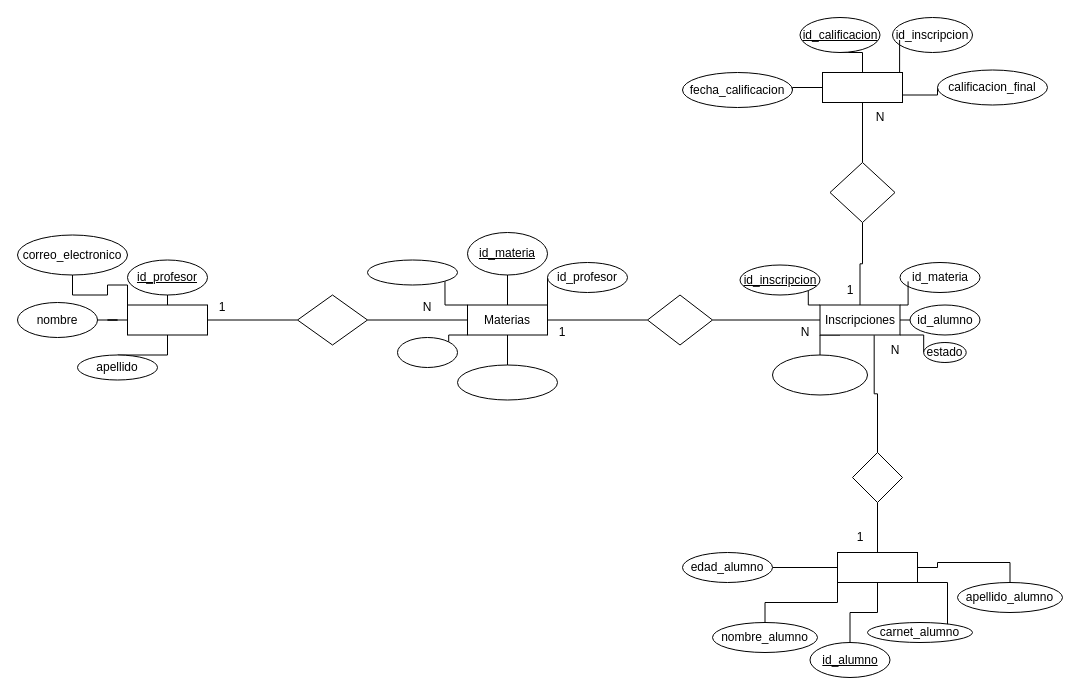
Image size: 1080x695. Some labels were removed from this diagram. The centre of each missing label's shape, as x and y in pixels:
"Alumnos" belongs at point 877,567.
"Calificaciones" belongs at point 862,87.
"cupos" belongs at point 427,352.
"Enseñan" belongs at point 332,319.
"fecha_inscripcion" belongs at point 820,374.
"grupo_materia" belongs at point 412,272.
"Hace" belongs at point 877,477.
"nombre_materia" belongs at point 507,382.
"Profesores" belongs at point 167,319.
"Puede" belongs at point 679,319.
"Tiene" belongs at point 862,192.
